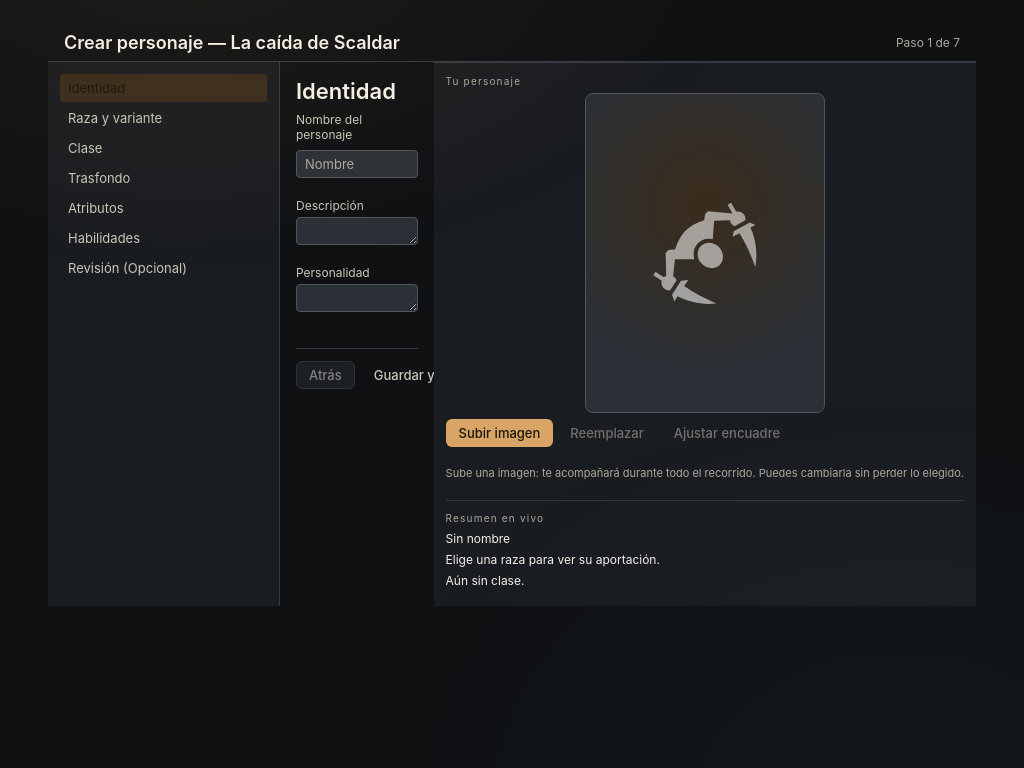
Test: Creador de personajes real (PMB-3.5) › muestra los errores del servidor en el paso correspondiente
Step 1. Click the button "Identidad" → {"x": 164, "y": 88}, box 60,74 -> 267,102
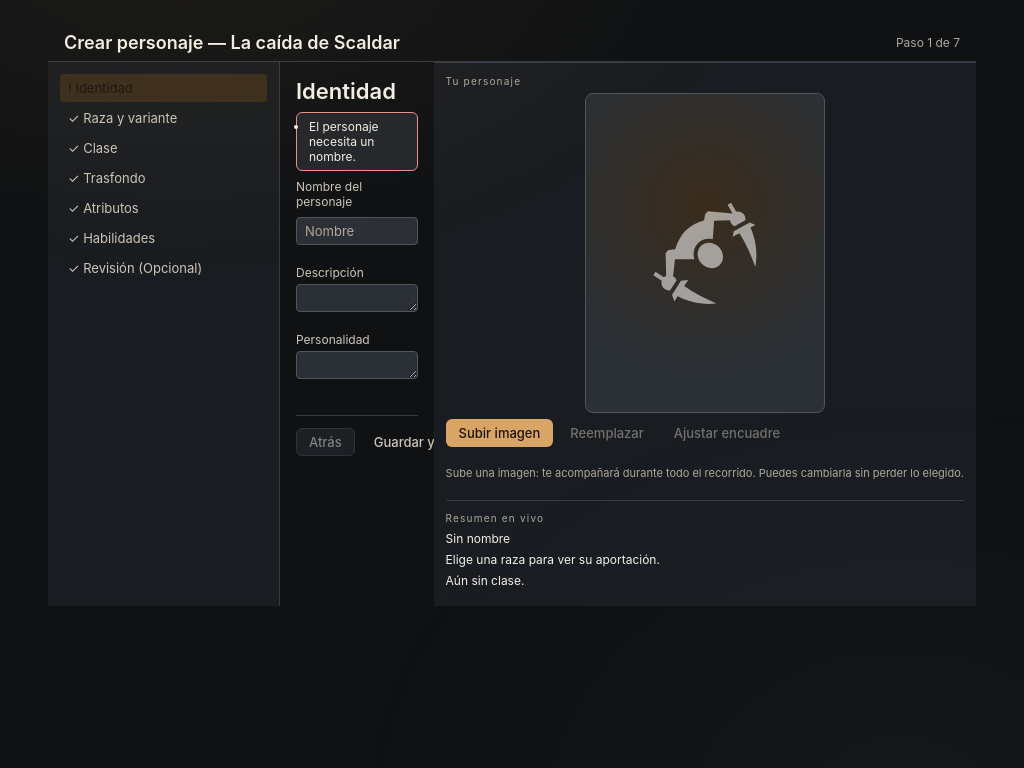
Result: the list item "El personaje necesita un nombre." is shown at 309,119 -> 379,164
